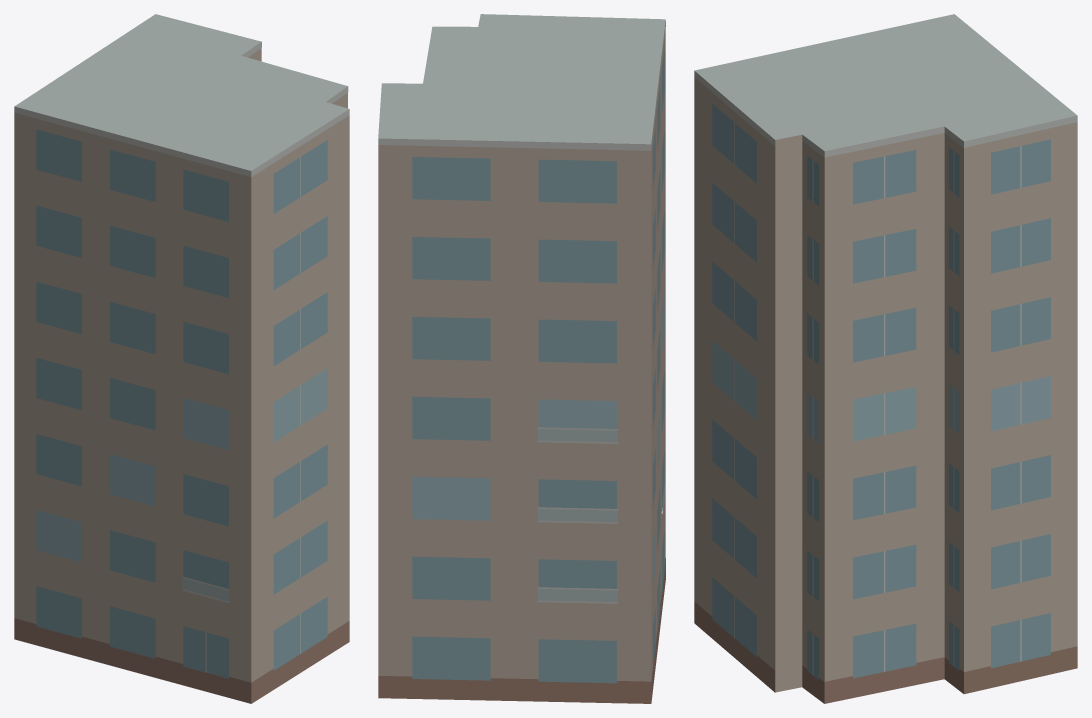
Rendered from survey-upis-32768690.glb.
The picture shows the model from 3 angles, left to right: view 1: azimuth 30°, elevation 25°; view 2: azimuth 150°, elevation 25°; view 3: azimuth 270°, elevation 25°; orthographic projection. The views are drawn at different scales.
Visible parts, largest first — view 1: survey-upis-32768690.tmp; view 2: survey-upis-32768690.tmp; view 3: survey-upis-32768690.tmp.
Boxes of the visible parts, x1,y1,x2,y2 form: survey-upis-32768690.tmp: [14, 14, 349, 703]; survey-upis-32768690.tmp: [378, 14, 665, 703]; survey-upis-32768690.tmp: [694, 14, 1077, 703].
Bounding box in the file's own units: 11.24 × 21.1 × 13.27.
